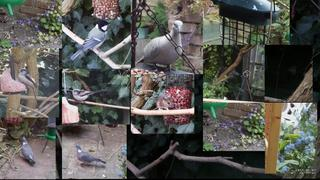collared dove: (135, 20, 183, 72)
great tit: (70, 20, 111, 61)
long tailed tit: (18, 68, 39, 110), (71, 89, 110, 104)
mouse: (144, 94, 174, 117)
wood pigeon: (74, 144, 107, 166), (21, 138, 36, 165)
